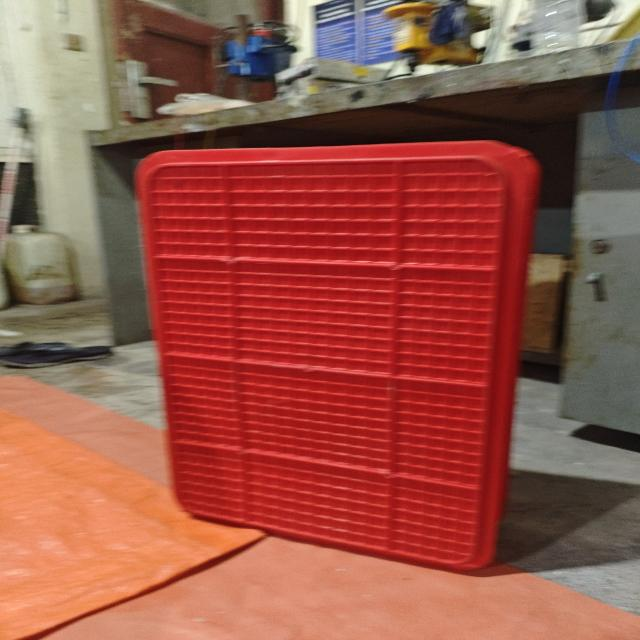red plastic box: (133, 140, 542, 570)
